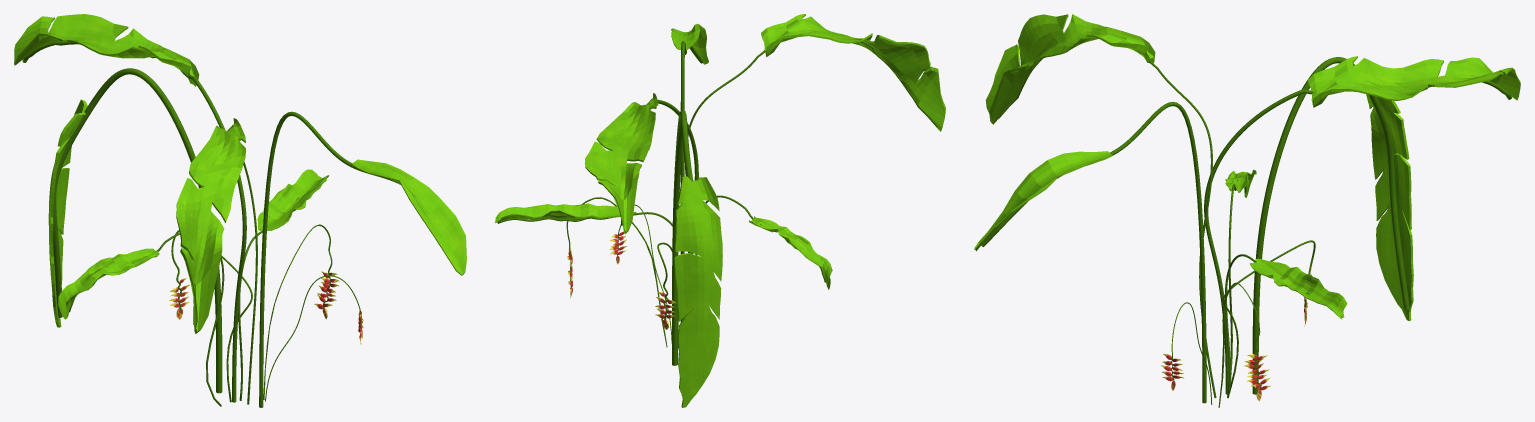
Rendered from heliconia_rostrata.glb.
3 views of the same model, side by side, from view 1: azimuth 30°, elevation 25°; view 2: azimuth 150°, elevation 25°; view 3: azimuth 270°, elevation 25° (orthographic). The views are drawn at different scales.
Parts seen in each view (by area): view 1: leave5A_low, leave3A_low, leave2A_low, Plantstem6A_low, leave6A_low, Plantstem2A_low, leave4A_low, leave1A_low, Plantstem3A_low, Stemplant (×2), Plantstem5A_low, Plantstem4A_low.001; view 2: leave6A_low, leave5A_low, leave3A_low, Plantstem6A_low, leave1A_low, leave4A_low, leave2A_low, Plantstem2A_low, Plantstem5A_low, Stemplant, Plantstem1A_low; view 3: leave3A_low, leave6A_low, leave5A_low, Plantstem6A_low, leave2A_low, Plantstem2A_low, leave1A_low, Plantstem3A_low, Plantstem5A_low, Stemplant, Plantstem4A_low.001, leave4A_low.
Part boxes in pixels (<box>): leave5A_low: <box>176,118,245,333</box>; leave3A_low: <box>14,14,199,86</box>; leave2A_low: <box>351,159,466,275</box>; Plantstem6A_low: <box>53,68,222,393</box>; leave6A_low: <box>48,99,87,327</box>; Plantstem2A_low: <box>259,111,415,407</box>; leave4A_low: <box>58,248,159,319</box>; leave1A_low: <box>257,169,329,230</box>; Plantstem3A_low: <box>22,42,246,402</box>; Stemplant (×2): <box>171,224,332,402</box>; Plantstem5A_low: <box>193,162,257,404</box>; Plantstem4A_low.001: <box>69,232,224,406</box>; leave6A_low: <box>674,176,722,407</box>; leave5A_low: <box>761,14,945,131</box>; leave3A_low: <box>585,93,658,234</box>; Plantstem6A_low: <box>672,110,693,395</box>; leave1A_low: <box>495,203,636,222</box>; leave4A_low: <box>749,216,832,289</box>; leave2A_low: <box>671,24,708,64</box>; Plantstem2A_low: <box>680,41,703,322</box>; Plantstem5A_low: <box>685,38,937,253</box>; Stemplant: <box>566,197,667,347</box>; Plantstem1A_low: <box>497,212,684,348</box>; leave3A_low: <box>1307,56,1520,107</box>; leave6A_low: <box>1366,94,1413,321</box>; leave5A_low: <box>985,14,1155,124</box>; Plantstem6A_low: <box>1252,57,1409,394</box>; leave2A_low: <box>974,151,1112,251</box>; Plantstem2A_low: <box>981,102,1206,403</box>; leave1A_low: <box>1249,258,1347,319</box>; Plantstem3A_low: <box>1204,81,1511,394</box>; Plantstem5A_low: <box>999,58,1216,397</box>; Stemplant: <box>1222,240,1315,392</box>; Plantstem4A_low.001: <box>1228,179,1246,382</box>; leave4A_low: <box>1225,169,1256,197</box>.
Bounding box in the file's own units: 337 × 338 × 502.
3 materials, 3 textured.
